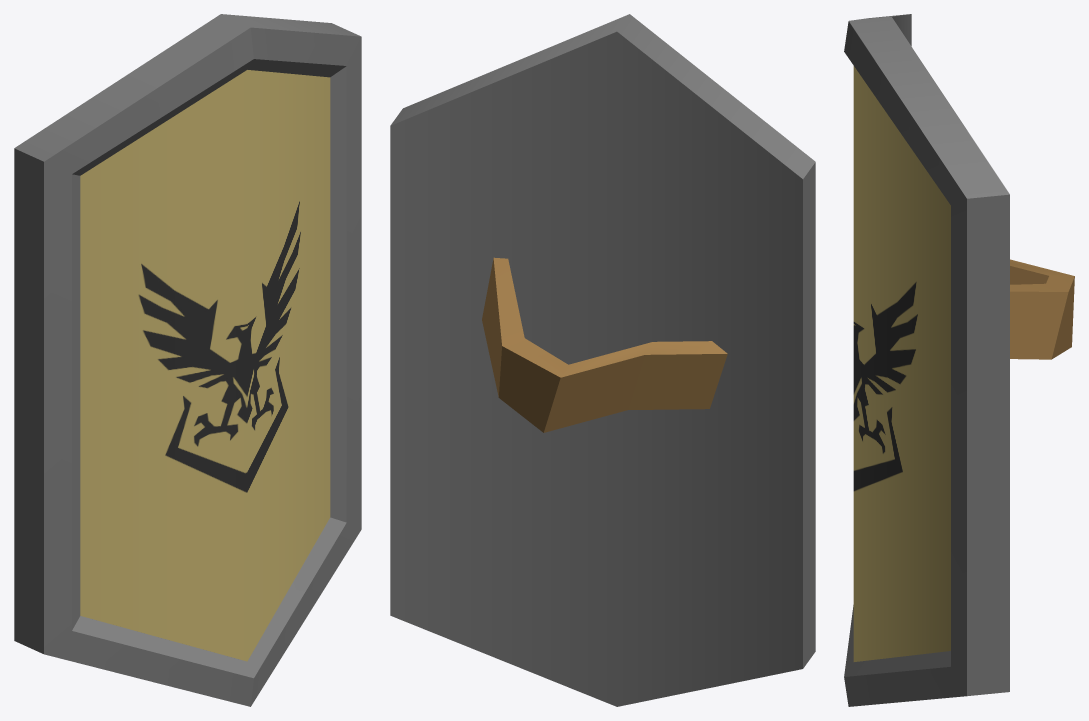
File: shield.glb
The picture shows the model from 3 angles, left to right: view 1: azimuth 30°, elevation 25°; view 2: azimuth 150°, elevation 25°; view 3: azimuth 270°, elevation 25°; orthographic projection.
Visible parts, largest first — view 1: Soldier_39_Stendardi_Mat3_0.001; view 2: Soldier_39_Stendardi_Mat3_0.001; view 3: Soldier_39_Stendardi_Mat3_0.001.
Boxes of the visible parts, <box> form: Soldier_39_Stendardi_Mat3_0.001: <box>14,14,361,706</box>; Soldier_39_Stendardi_Mat3_0.001: <box>390,14,815,706</box>; Soldier_39_Stendardi_Mat3_0.001: <box>844,14,1074,706</box>.
Bounding box in the file's own units: 0.5777 × 1 × 0.305.
Materials: 3 (1 with a texture image).
